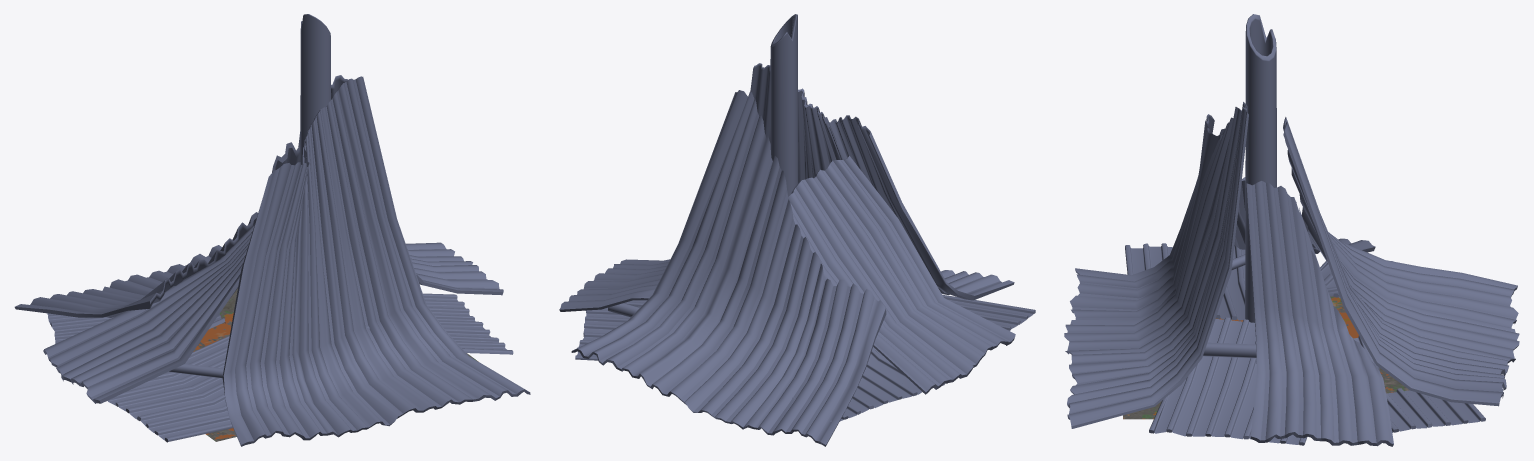
File: SM_RoofTopLow_01.fbx
3 views of the same model, side by side, from view 1: azimuth 30°, elevation 25°; view 2: azimuth 150°, elevation 25°; view 3: azimuth 270°, elevation 25° (orthographic). The views are drawn at different scales.
Parts seen in each view (by area): view 1: RoofTopLow; view 2: RoofTopLow; view 3: RoofTopLow.
Part boxes in pixels (bbox=[...]): RoofTopLow: bbox=[14, 14, 530, 446]; RoofTopLow: bbox=[559, 14, 1035, 446]; RoofTopLow: bbox=[1064, 14, 1519, 446].
Bounding box in the file's own units: 771 × 616 × 699.
